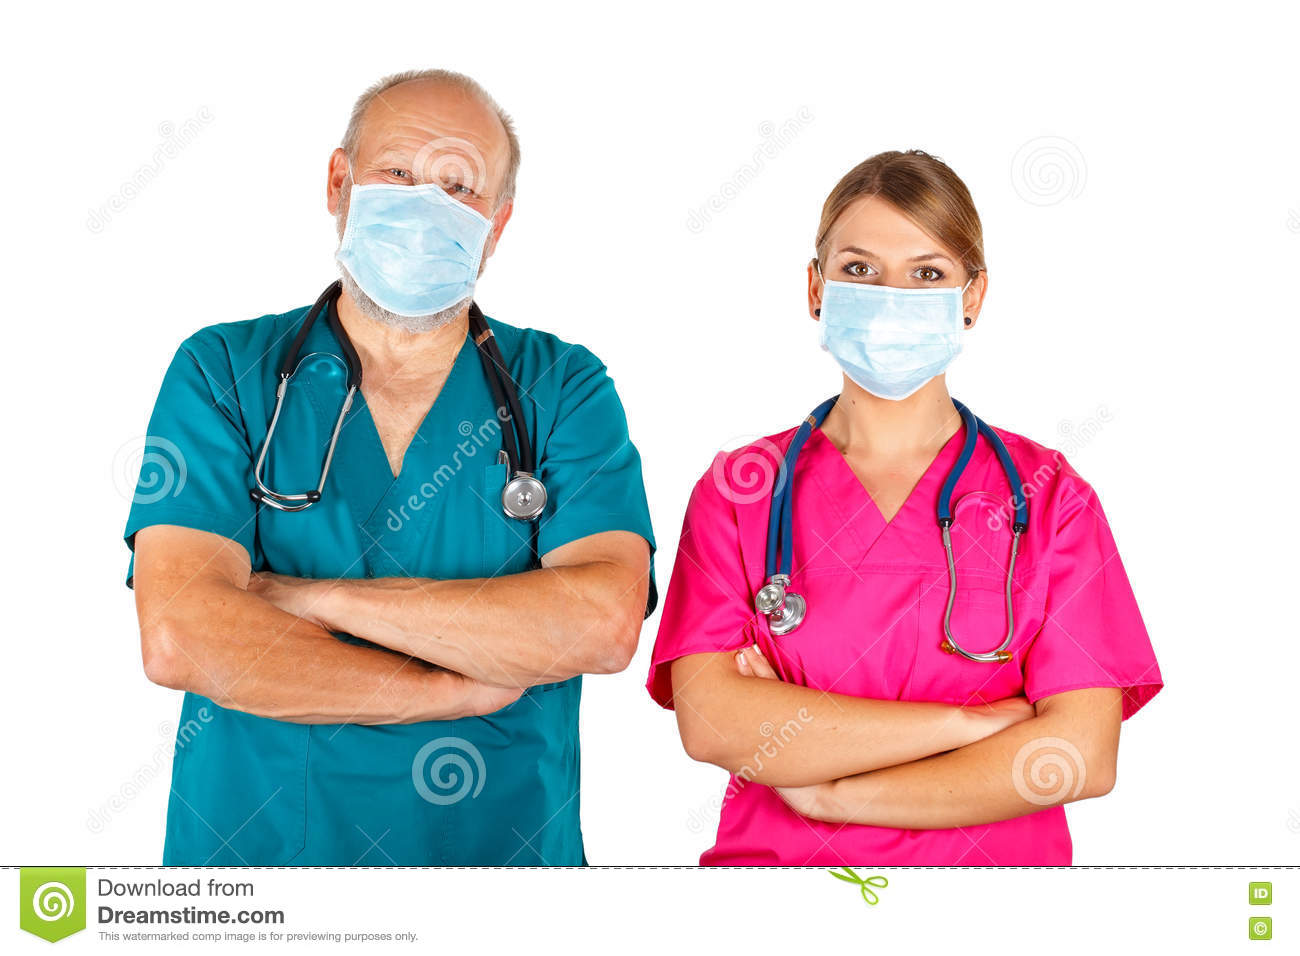mask: (339, 185, 498, 318), (819, 281, 970, 391)
